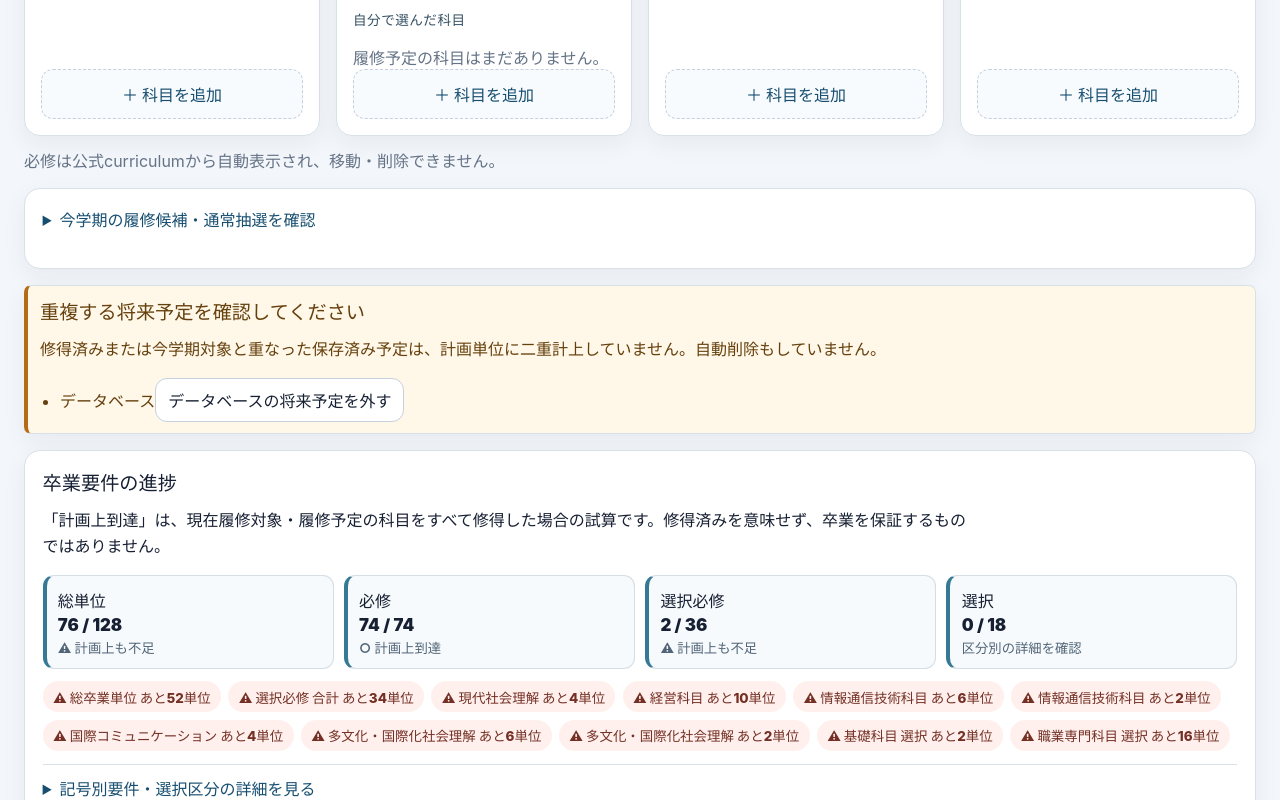
Scenario: Phase 11D UI › 既存計画が今学期対象と重なったら警告し、手動で外せる
(page scrolled)
Expected: the heading "重複する将来予定を確認してください" is shown, [40,300,365,324]
What coordinates should you click on to do the following:
click the button "データベースの将来予定を外す"
I would click on:
 (280, 400)
Its box is [155,378,404,422].
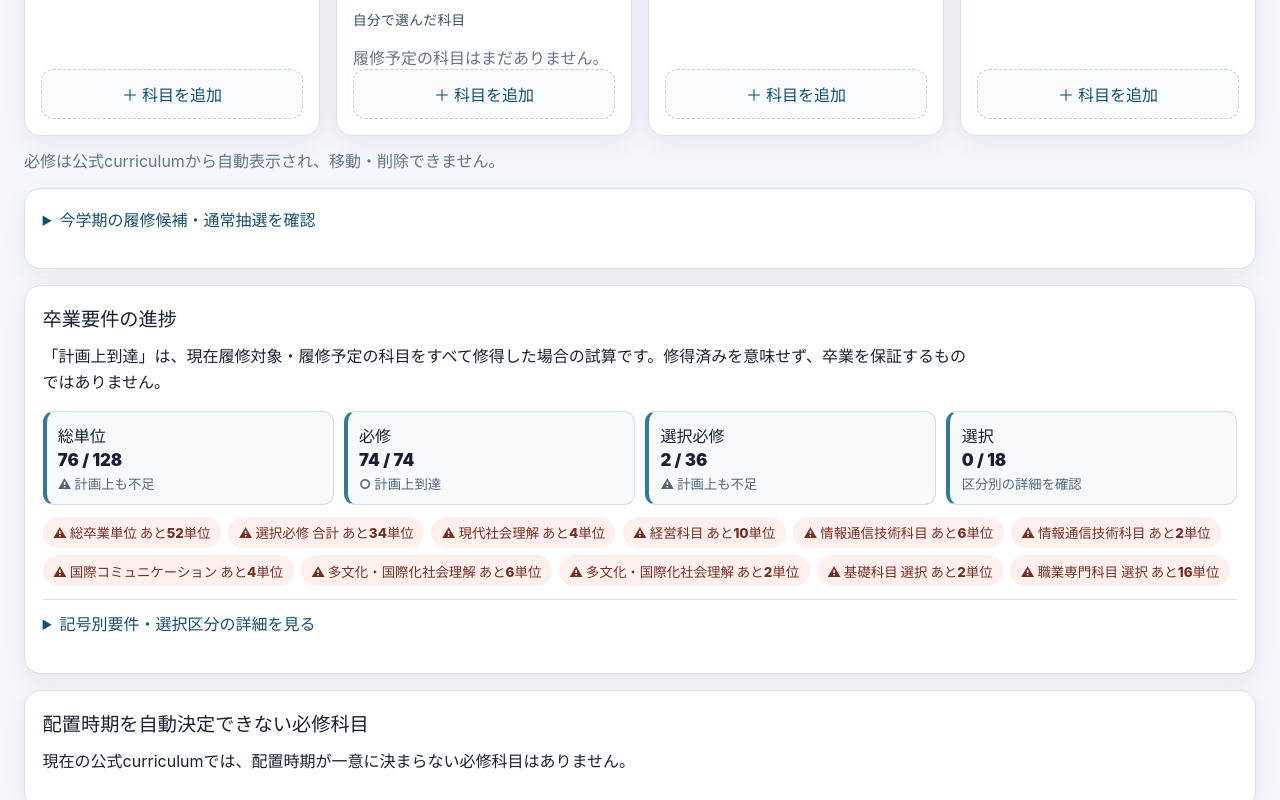
Now the heading "重複する将来予定を確認してください" is gone
